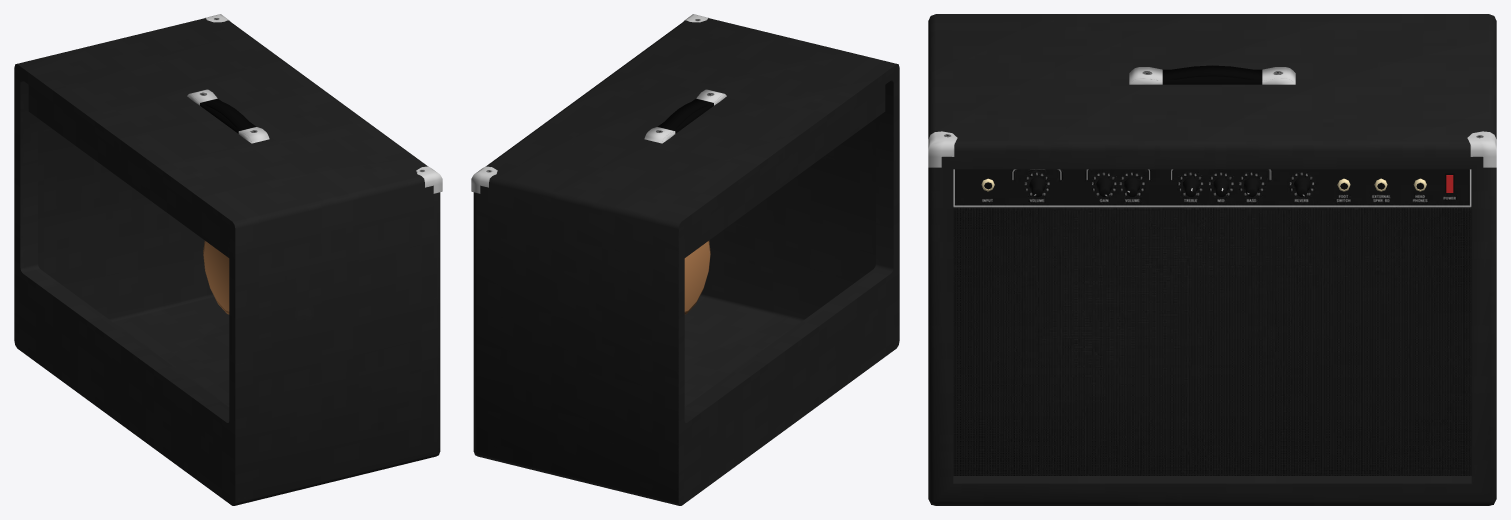
File: amplifier.glb
3 renders of one model, left to right at view 1: azimuth 30°, elevation 25°; view 2: azimuth 150°, elevation 25°; view 3: azimuth 270°, elevation 25°, orthographic. The views are drawn at different scales.
Visible parts, largest first — view 1: Box_Box_0, Top_Top_0, Speaker_Speaker_0; view 2: Box_Box_0, Top_Top_0, Speaker_Speaker_0; view 3: Box_Box_0, Top_Top_0, Panel_Panel_0.
Boxes of the visible parts, bbox=[...] form: Box_Box_0: bbox=[14, 18, 440, 505]; Top_Top_0: bbox=[187, 14, 442, 193]; Speaker_Speaker_0: bbox=[203, 240, 229, 314]; Box_Box_0: bbox=[473, 18, 899, 505]; Top_Top_0: bbox=[471, 14, 726, 193]; Speaker_Speaker_0: bbox=[684, 240, 710, 314]; Box_Box_0: bbox=[928, 14, 1496, 505]; Top_Top_0: bbox=[928, 65, 1496, 167]; Panel_Panel_0: bbox=[981, 172, 1454, 197].
Size of the model in its own units: 0.4175 by 0.5586 by 0.7681.
4 materials, 4 textured.
